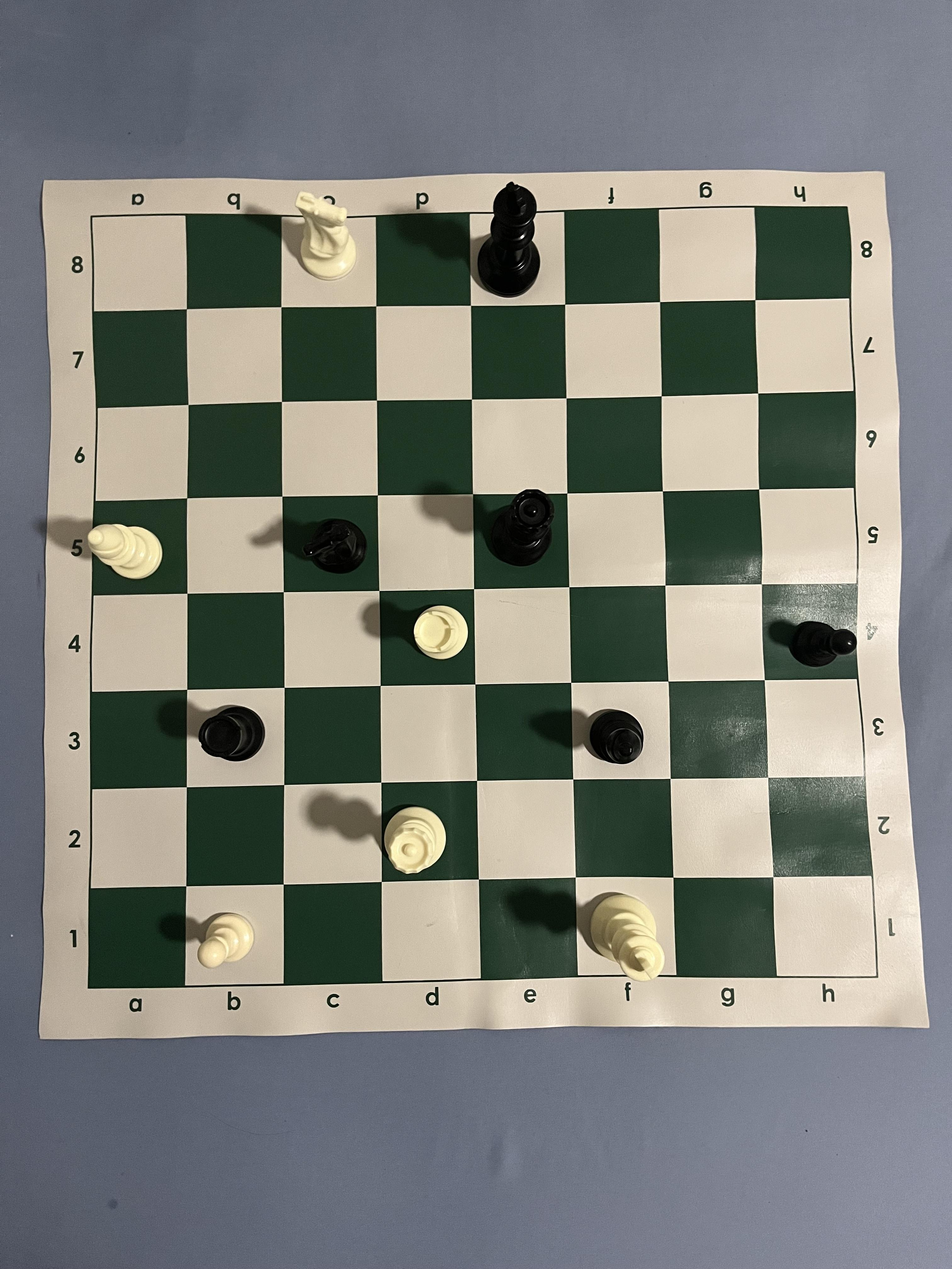black_bishop: (590, 709, 645, 766)
black_king: (478, 182, 541, 297)
black_knight: (302, 519, 367, 575)
black_pawn: (788, 620, 859, 668)
black_queen: (493, 489, 555, 567)
black_rook: (198, 705, 266, 763)
white_bishop: (86, 523, 164, 581)
white_king: (589, 892, 667, 982)
white_knight: (294, 191, 358, 281)
white_pawn: (196, 912, 255, 969)
white_queen: (383, 805, 447, 874)
white_rook: (414, 605, 469, 660)
